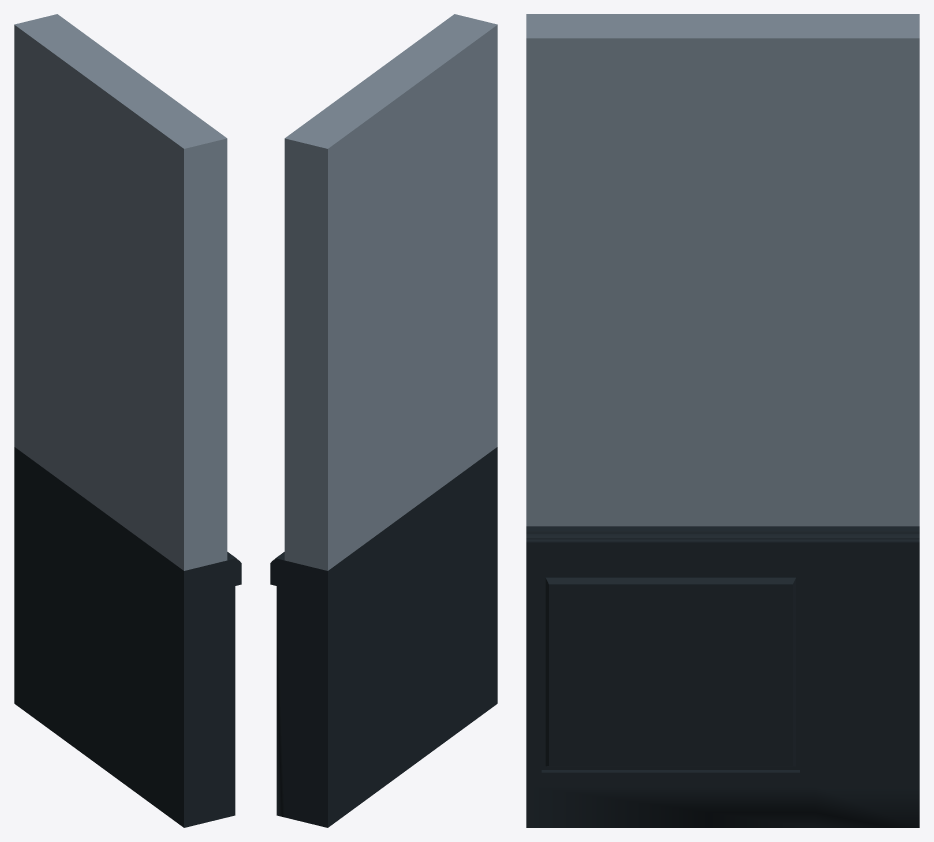
The model's file is HalfWallSharpGlans.fbx.
3 views of the same model, side by side, from view 1: azimuth 30°, elevation 25°; view 2: azimuth 150°, elevation 25°; view 3: azimuth 270°, elevation 25° (orthographic). The views are drawn at different scales.
Parts seen in each view (by area): view 1: Wall_M; view 2: Wall_M; view 3: Wall_M.
Boxes of the visible parts, x1,y1,x2,y2 form: Wall_M: [14, 14, 241, 827]; Wall_M: [270, 14, 497, 827]; Wall_M: [526, 14, 919, 827].
Size of the model in its own units: 26.66 by 300 by 136.
